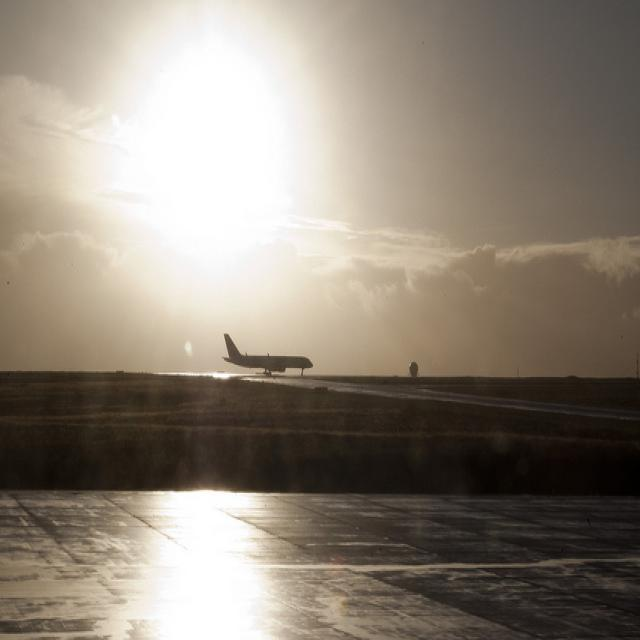airplane: (220, 332, 314, 379)
